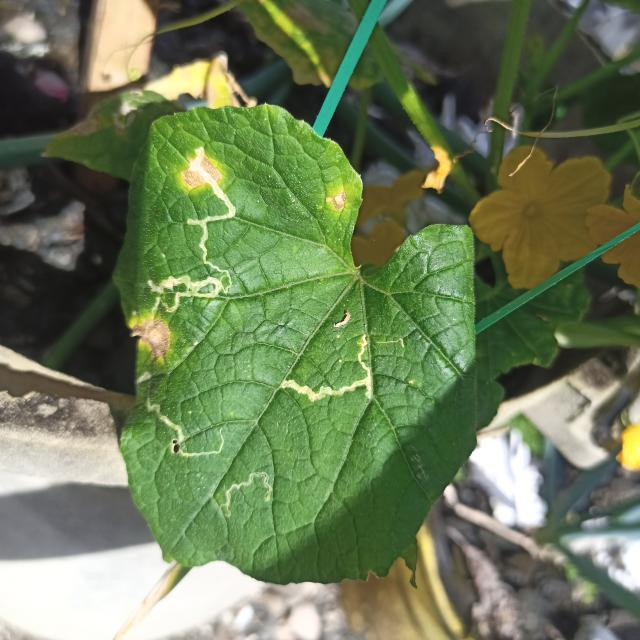disease_cucumber: (132, 311, 171, 362), (180, 154, 223, 189), (328, 189, 349, 216)
